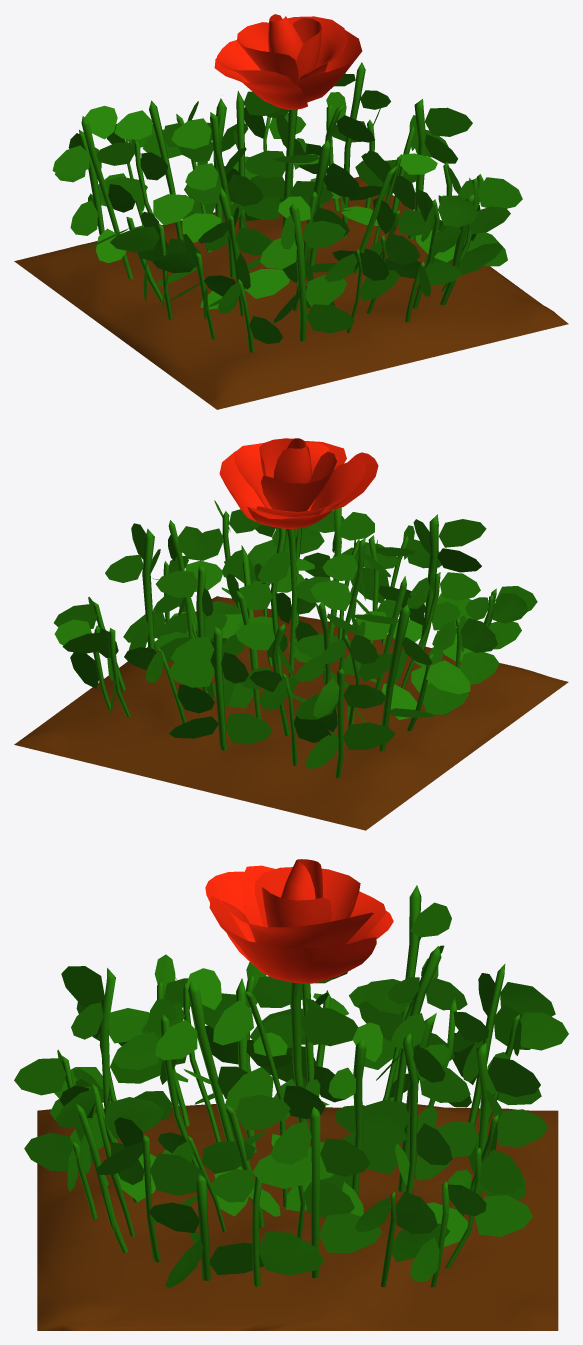
The model's file is red-rose-p2-bloom.glb.
3 renders of one model, top to bottom at view 1: azimuth 30°, elevation 25°; view 2: azimuth 150°, elevation 25°; view 3: azimuth 270°, elevation 25°, orthographic. The views are drawn at different scales.
Visible parts, largest first — view 1: 2_nft_bloom; view 2: 2_nft_bloom; view 3: 2_nft_bloom.
Boxes of the visible parts, x1,y1,x2,y2 form: 2_nft_bloom: [14, 14, 568, 409]; 2_nft_bloom: [14, 438, 568, 830]; 2_nft_bloom: [14, 859, 568, 1330].
Bounding box in the file's own units: 0.751 × 0.5266 × 0.7455.
